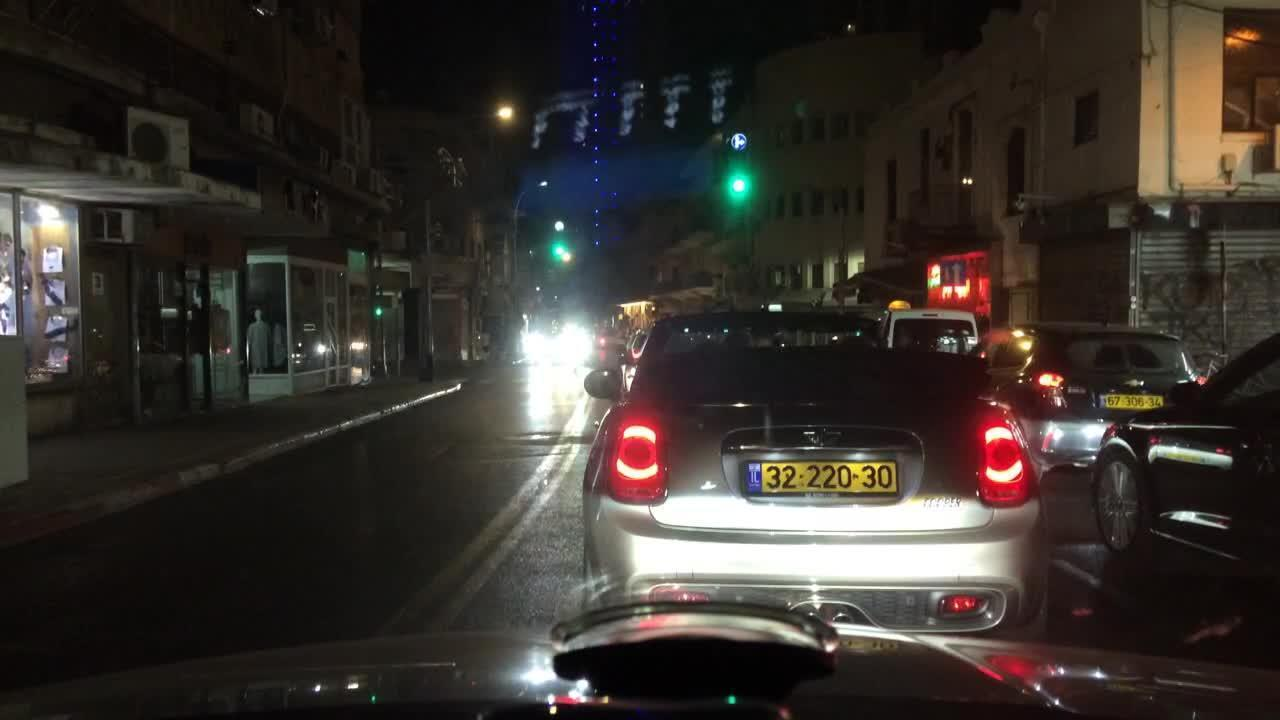chevrolet: (1121, 376, 1147, 390)
mini: (798, 424, 846, 449)
